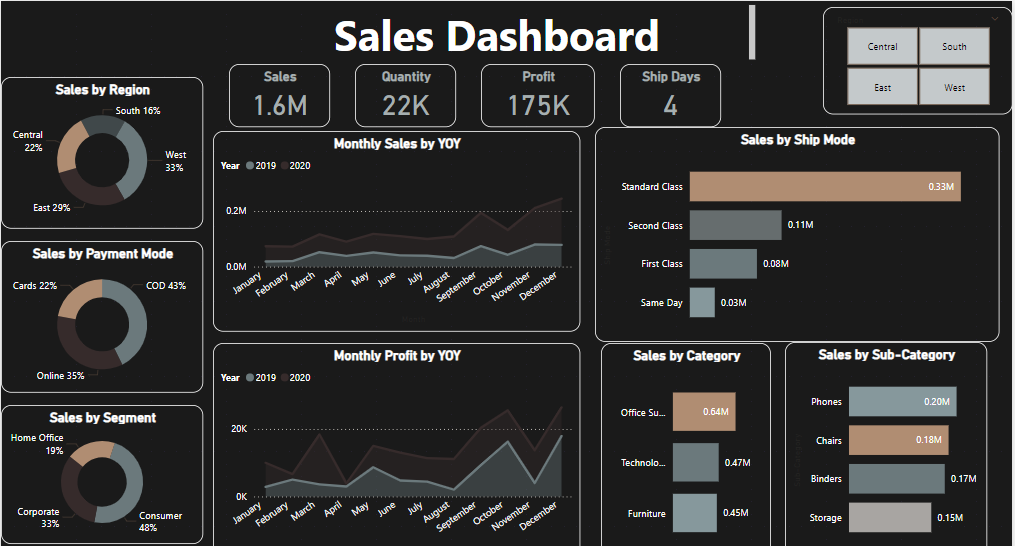

This screenshot's page, from the dashboard's own definition file:
{"tool":"powerbi","page":{"name":"Sales","canvas":[1280,720],"ordinal":0},"visuals":[{"type":"clusteredBarChart","title":"Sales by Ship Mode","fields":{"Category":["SuperStore_Sales_Dataset.Ship Mode"],"Y":["Sum(SuperStore_Sales_Dataset.Sales)"]},"box":[752,160,512,272],"z":0},{"type":"clusteredBarChart","title":"Sales by Category","fields":{"Category":["SuperStore_Sales_Dataset.Category"],"Y":["Sum(SuperStore_Sales_Dataset.Sales)"]},"box":[759.7,432.3,215.4,277.8],"z":1000},{"type":"clusteredBarChart","title":"Sales by Sub-Category","fields":{"Category":["SuperStore_Sales_Dataset.Sub-Category"],"Y":["Sum(SuperStore_Sales_Dataset.Sales)"]},"box":[992,432,256,272],"z":2000},{"type":"stackedAreaChart","title":"Monthly Sales by YOY","fields":{"Category":["SuperStore_Sales_Dataset.Order Date.Variation.Date Hierarchy.Month"],"Y":["Sum(SuperStore_Sales_Dataset.Sales)"],"Series":["SuperStore_Sales_Dataset.Order Date.Variation.Date Hierarchy.Year"]},"box":[267.9,164.4,464.9,253.7],"z":3000},{"type":"stackedAreaChart","title":"Monthly Profit by YOY","fields":{"Category":["SuperStore_Sales_Dataset.Order Date.Variation.Date Hierarchy.Month"],"Series":["SuperStore_Sales_Dataset.Order Date.Variation.Date Hierarchy.Year"],"Y":["Sum(SuperStore_Sales_Dataset.Profit)"]},"box":[267.9,432.3,464.9,276.4],"z":4000},{"type":"donutChart","title":"Sales by Segment","fields":{"Category":["SuperStore_Sales_Dataset.Segment"],"Y":["Sum(SuperStore_Sales_Dataset.Sales)"]},"box":[0,512,256,176],"z":5000},{"type":"donutChart","title":"Sales by Payment Mode","fields":{"Y":["Sum(SuperStore_Sales_Dataset.Sales)"],"Category":["SuperStore_Sales_Dataset.Payment Mode"]},"box":[0,304,256,192],"z":6000},{"type":"slicer","fields":{"Values":["SuperStore_Sales_Dataset.Region"]},"box":[1040,8,240,136],"z":7000},{"type":"donutChart","title":"Sales by Region","fields":{"Category":["SuperStore_Sales_Dataset.Region"],"Y":["Sum(SuperStore_Sales_Dataset.Sales)"]},"box":[0,96,256,192],"z":8000},{"type":"card","title":"Sales","fields":{"Values":["Sum(SuperStore_Sales_Dataset.Sales)"]},"box":[288,80,128,80],"z":9000},{"type":"textbox","box":[304,0,656,80],"z":10000},{"type":"card","title":"Ship Days","fields":{"Values":["Avg(SuperStore_Sales_Dataset.AvgDelivery)"]},"box":[784,80,128,80],"z":11000},{"type":"card","title":"Quantity","fields":{"Values":["Sum(SuperStore_Sales_Dataset.Quantity)"]},"box":[448,80,128,80],"z":12000},{"type":"card","title":"Profit","fields":{"Values":["Sum(SuperStore_Sales_Dataset.Profit)"]},"box":[608,80,144,80],"z":13000}]}

Visuals, with their boxes on the page's 1280x720 design canvas (x1, y1, x2, y2). These are canvas units, not pixel positions in the 1015x546 screenshot, which may show the page scaled, cropped or inside an application window:
"Sales by Ship Mode" clusteredBarChart: [752,160,1264,432]
"Sales by Category" clusteredBarChart: [760,432,975,710]
"Sales by Sub-Category" clusteredBarChart: [992,432,1248,704]
"Monthly Sales by YOY" stackedAreaChart: [268,164,733,418]
"Monthly Profit by YOY" stackedAreaChart: [268,432,733,709]
"Sales by Segment" donutChart: [0,512,256,688]
"Sales by Payment Mode" donutChart: [0,304,256,496]
slicer - SuperStore_Sales_Dataset.Region: [1040,8,1280,144]
"Sales by Region" donutChart: [0,96,256,288]
"Sales" card: [288,80,416,160]
textbox: [304,0,960,80]
"Ship Days" card: [784,80,912,160]
"Quantity" card: [448,80,576,160]
"Profit" card: [608,80,752,160]
